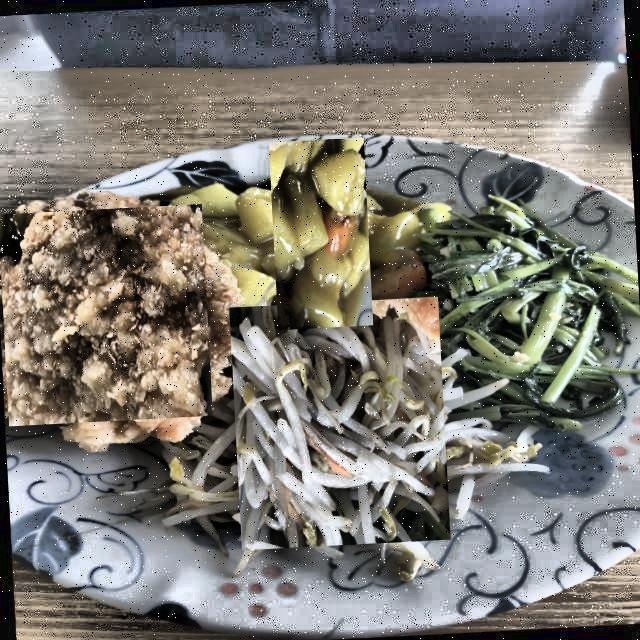Food: (221, 304, 459, 542), (0, 206, 215, 425), (439, 215, 616, 392), (247, 159, 396, 308)
